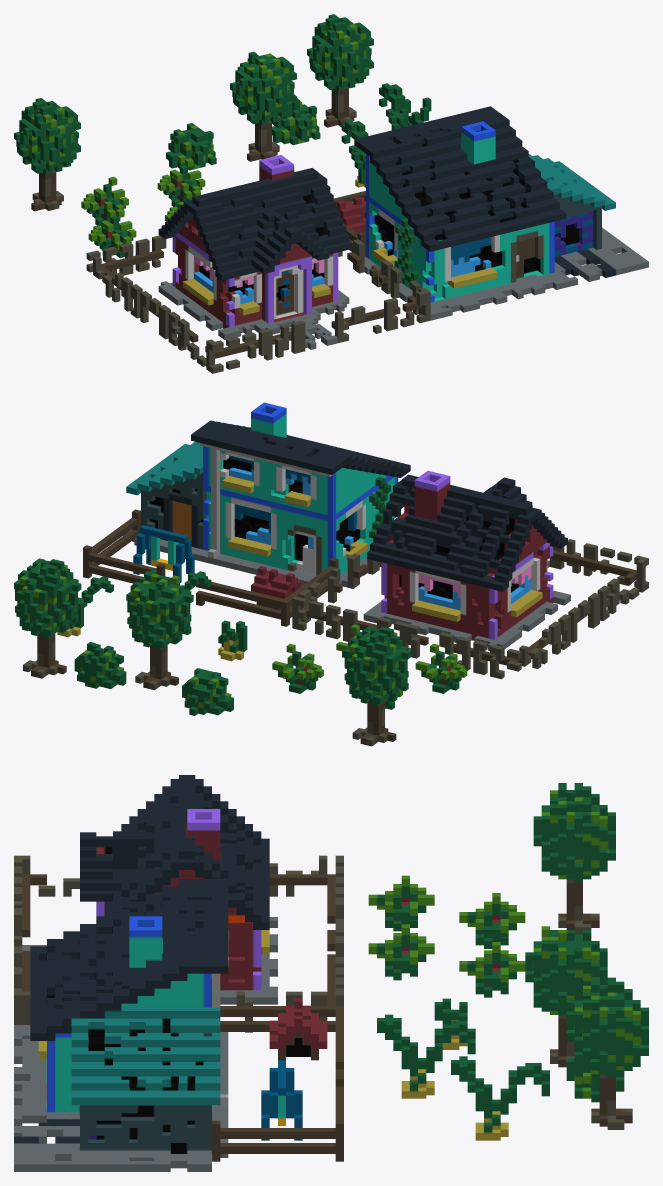
File: building_small_3_damaged.glb
3 renders of one model, top to bottom at view 1: azimuth 30°, elevation 25°; view 2: azimuth 150°, elevation 25°; view 3: azimuth 270°, elevation 25°, orthographic. The views are drawn at different scales.
Visible parts, largest first — view 1: building_small_3_damaged; view 2: building_small_3_damaged; view 3: building_small_3_damaged.
Boxes of the visible parts, bbox=[...] form: building_small_3_damaged: bbox=[14, 14, 648, 373]; building_small_3_damaged: bbox=[14, 402, 648, 746]; building_small_3_damaged: bbox=[14, 775, 648, 1171].
Bounding box in the file's own units: 8 × 2.3 × 7.7.
Materials: 1 (1 with a texture image).
